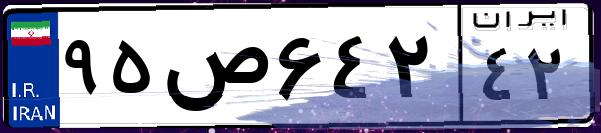2: (385, 28, 445, 110), (525, 38, 570, 115)
4: (330, 28, 385, 110), (475, 38, 525, 113)
5: (110, 28, 158, 98)
6: (270, 28, 330, 110)
9: (57, 26, 110, 100)
ص: (158, 20, 270, 120)
